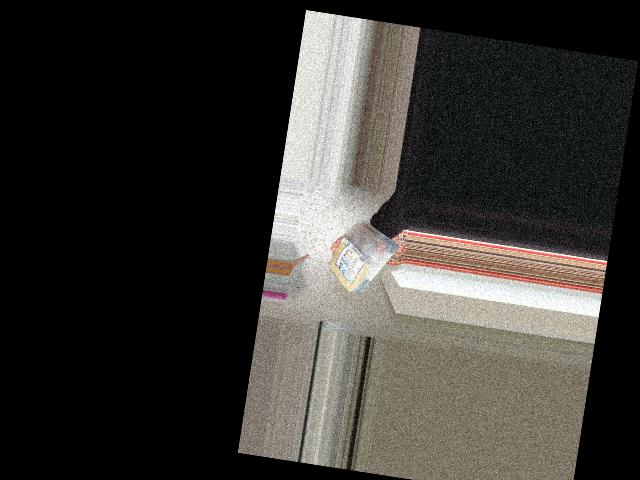cheese: (318, 213, 406, 303)
